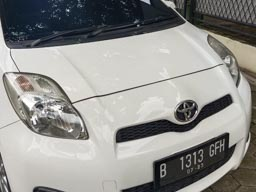plat: (152, 128, 229, 192)
